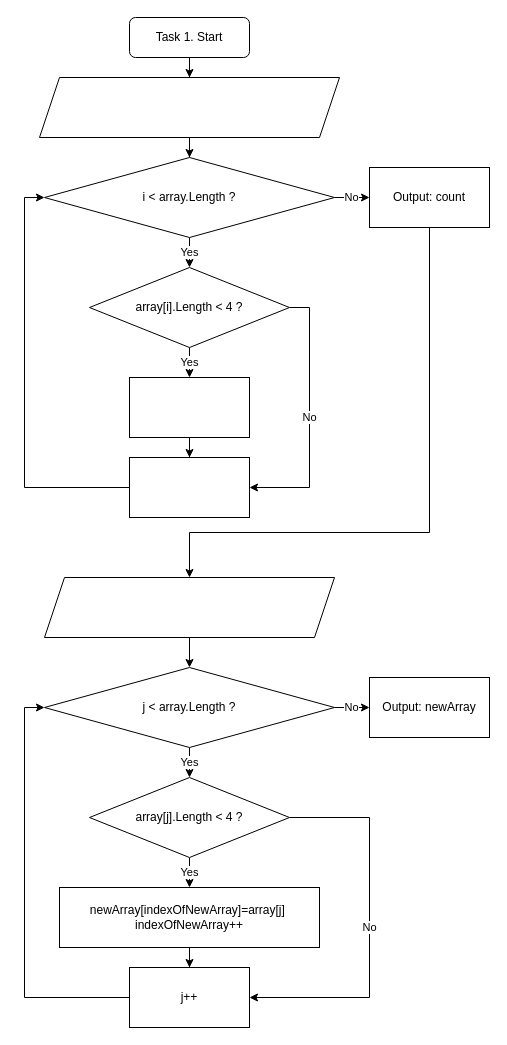
Some shapes in this 507 by 1045 pixel diagram are drawn without their labels. The shapes that lost their labels are listed below. From the top down, each one's centre as x and y in pixels, then its label:
At (x=189, y=107): "string[ ] array = int count = 0 inti i = 0".
At (x=189, y=407): "count++".
At (x=189, y=487): "i++".
At (x=189, y=607): "string[ ] newArray = new string [count] int indexOfNewArray = 0 int j = 0".
